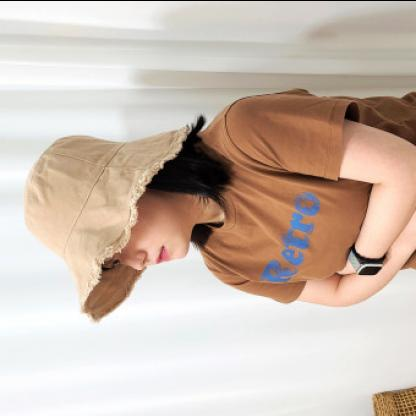hat: (20, 112, 214, 324)
